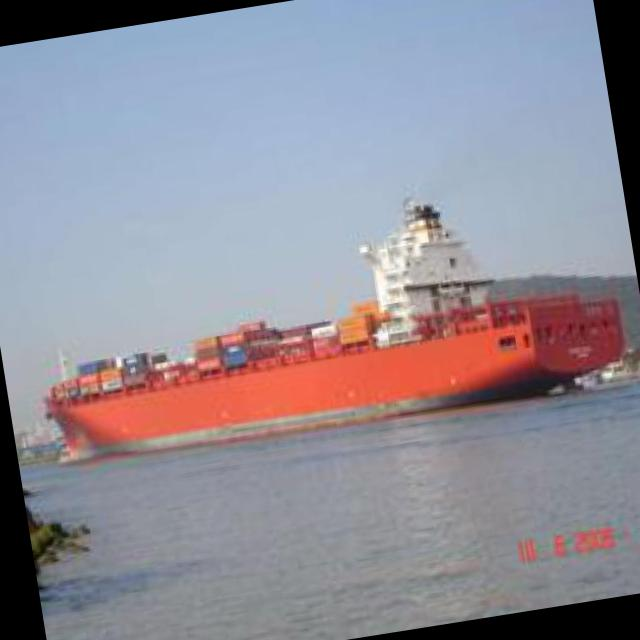boat: (39, 242, 629, 470)
